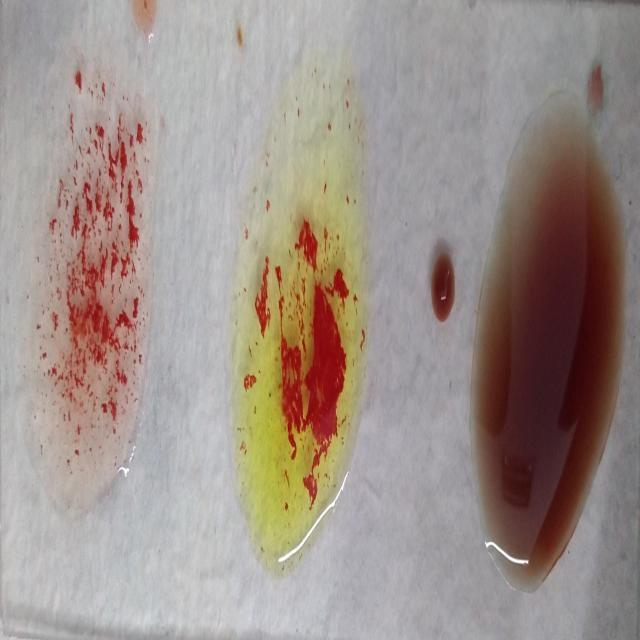B: (231, 43, 363, 575)
D: (29, 59, 142, 524)
